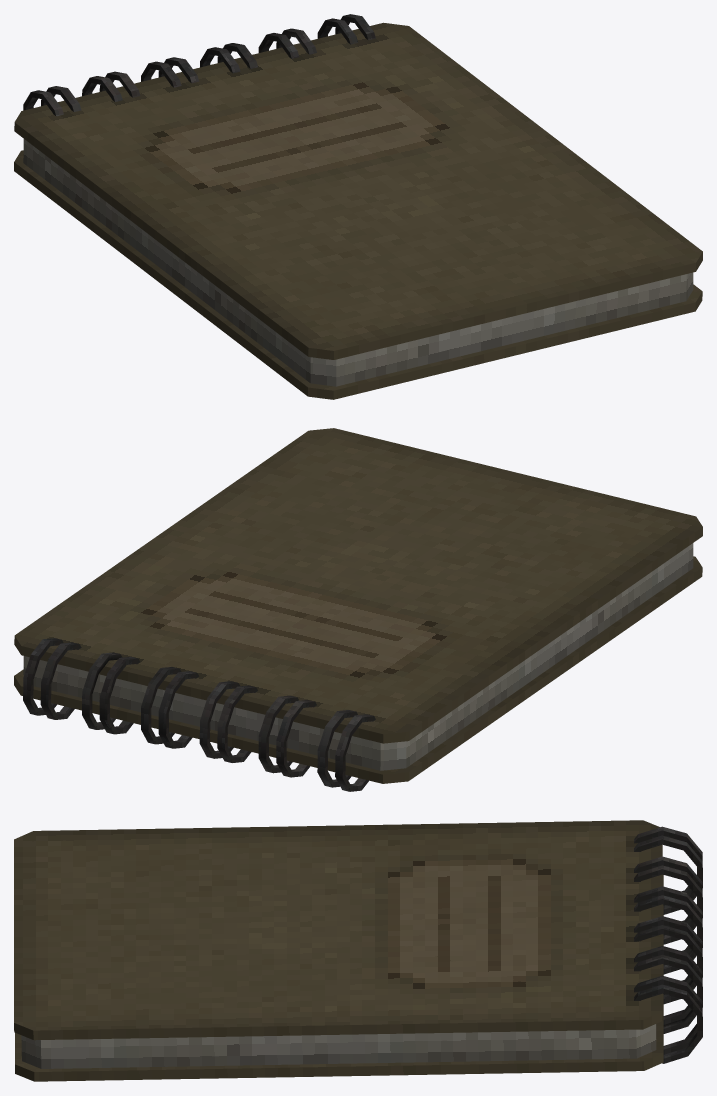
Rendered from notebook_1.glb.
The picture shows the model from 3 angles, top to bottom: view 1: azimuth 30°, elevation 25°; view 2: azimuth 150°, elevation 25°; view 3: azimuth 270°, elevation 25°; orthographic projection. The views are drawn at different scales.
Visible parts, largest first — view 1: notebook_1; view 2: notebook_1; view 3: notebook_1.
Part boxes in pixels (x1,y1,x2,y2): notebook_1: (14, 14, 702, 399); notebook_1: (14, 428, 702, 791); notebook_1: (14, 820, 702, 1081).
Size of the model in its own units: 0.1474 by 0.026 by 0.215.
Materials: 2 (2 with a texture image).
